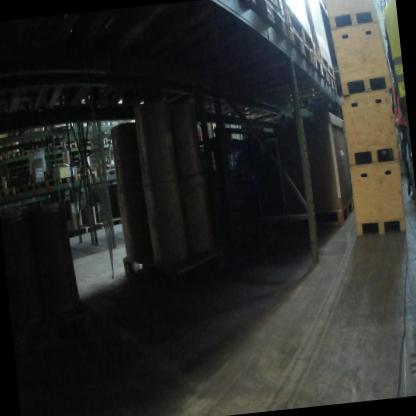pallet: (117, 233, 233, 301), (199, 24, 317, 84), (247, 70, 339, 108), (255, 54, 330, 98), (229, 0, 289, 49), (288, 195, 359, 234), (101, 213, 125, 237), (82, 215, 106, 237), (96, 161, 118, 183), (56, 171, 80, 188), (37, 173, 59, 191), (16, 181, 37, 199), (78, 167, 99, 184), (0, 183, 18, 202), (32, 146, 49, 158), (62, 139, 77, 152), (6, 149, 21, 161), (20, 147, 34, 159), (48, 143, 64, 153), (105, 136, 117, 149), (0, 149, 8, 162)
